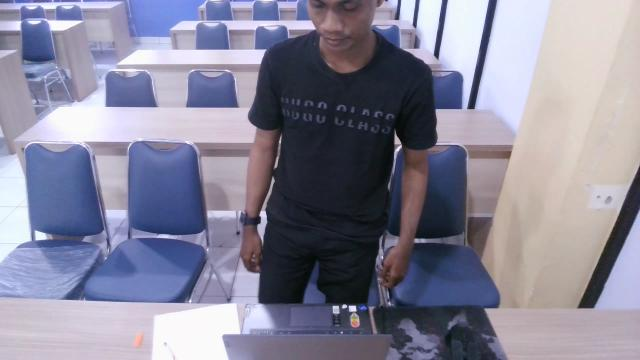Empty_Desk: (214, 0, 418, 360)
